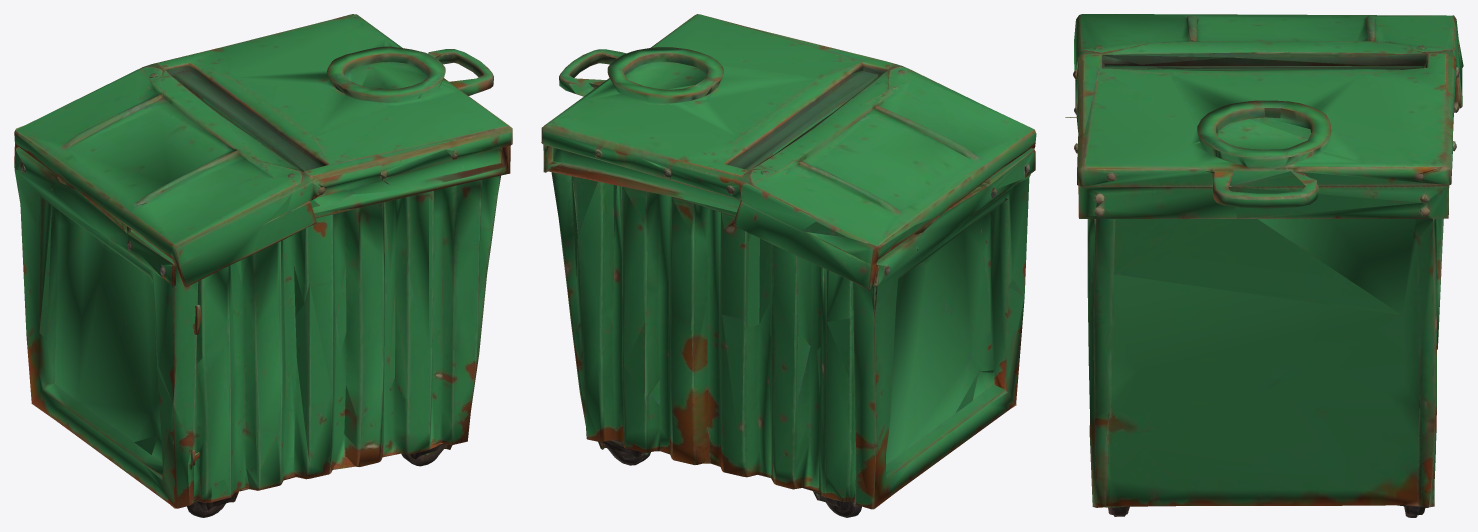
File: k-dumpster.glb
3 views of the same model, side by side, from view 1: azimuth 30°, elevation 25°; view 2: azimuth 150°, elevation 25°; view 3: azimuth 270°, elevation 25° (orthographic). The views are drawn at different scales.
Visible parts, largest first — view 1: k-dumpster; view 2: k-dumpster; view 3: k-dumpster.
Boxes of the visible parts, x1,y1,x2,y2 form: k-dumpster: (14, 14, 512, 517); k-dumpster: (541, 14, 1036, 517); k-dumpster: (1065, 14, 1463, 517).
Size of the model in its own units: 2 by 1.67 by 1.5.
1 material, 1 textured.
